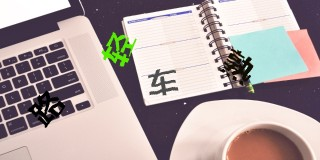熟: (223, 48, 253, 86)
路: (27, 91, 66, 127)
车: (147, 68, 178, 96)
轻: (102, 31, 136, 68)
